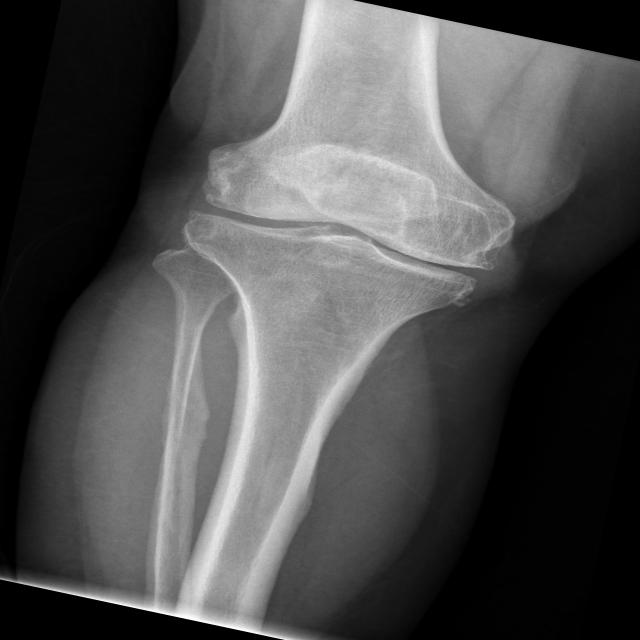Knee: (165, 79, 536, 363)
